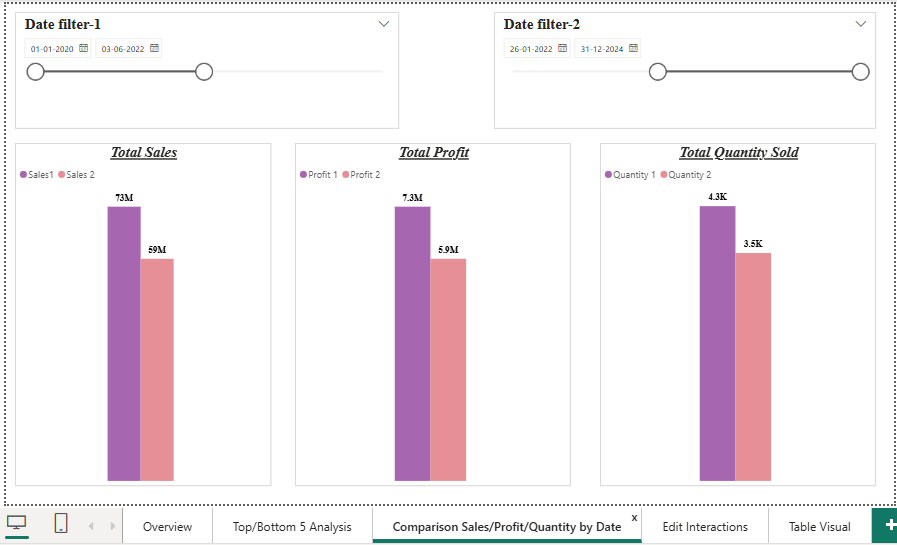

Layout of this report page (visuals, bound fields, positions):
{"tool":"powerbi","page":{"name":"Comparison Sales/Profit/Quantity by Date","canvas":[1280,720],"ordinal":2},"visuals":[{"type":"slicer","fields":{"Values":["Date_Table1.Date"]},"box":[13,11.5,553,168.5],"z":0},{"type":"slicer","fields":{"Values":["Date_Table2.Date"]},"box":[702.7,11.5,550.1,168.5],"z":1000},{"type":"clusteredColumnChart","title":"Total Sales ","fields":{"Y":["Sum(Fact Table.Net Sales)","Date_Table1.Sum of Net Sales"]},"box":[13,200.2,368.6,493.9],"z":2000},{"type":"clusteredColumnChart","title":"Total Profit","fields":{"Y":["Sum(Fact Table.Profit)","Measures Table.Total_Profit"]},"box":[416.2,200.2,397.4,493.9],"z":3000},{"type":"clusteredColumnChart","title":"Total Quantity Sold","fields":{"Y":["Sum(Fact Table.Units Sold)","Measures Table.Quantity_Sold"]},"box":[855.4,200.2,397.4,493.9],"z":4000}]}

Visuals, with their boxes on the page's 1280x720 design canvas (x1, y1, x2, y2). These are canvas units, not pixel positions in the 897x545 screenshot, which may show the page scaled, cropped or inside an application window:
slicer - Date_Table1.Date: bbox=[13, 12, 566, 180]
slicer - Date_Table2.Date: bbox=[703, 12, 1253, 180]
"Total Sales " clusteredColumnChart: bbox=[13, 200, 382, 694]
"Total Profit" clusteredColumnChart: bbox=[416, 200, 814, 694]
"Total Quantity Sold" clusteredColumnChart: bbox=[855, 200, 1253, 694]
